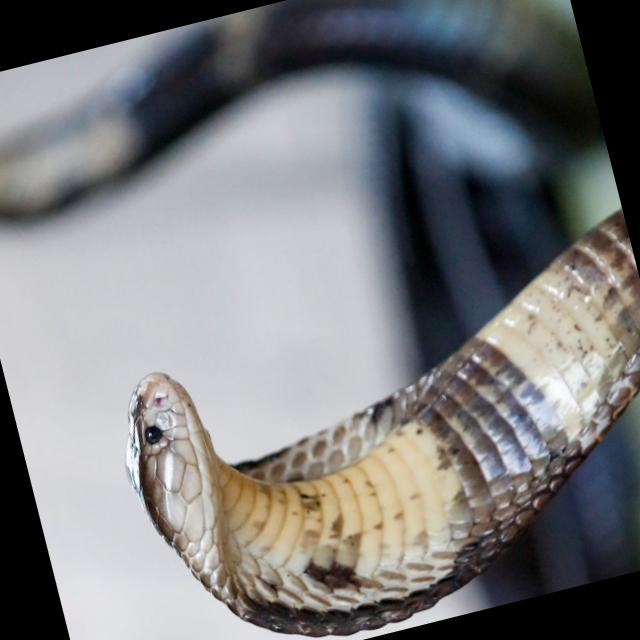Animals: (72, 238, 613, 640)
